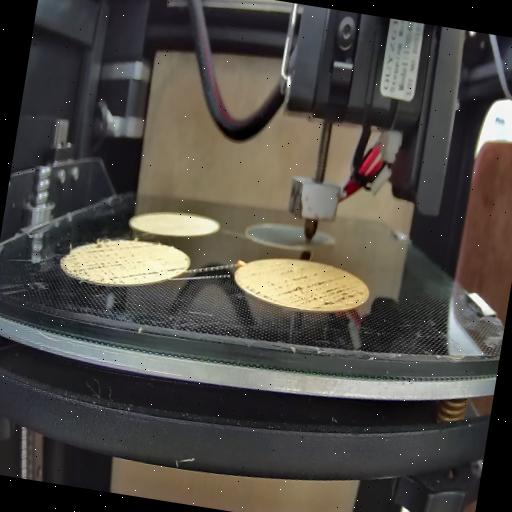under_extrusion: (243, 264, 368, 318), (64, 238, 144, 286), (142, 258, 188, 282)
